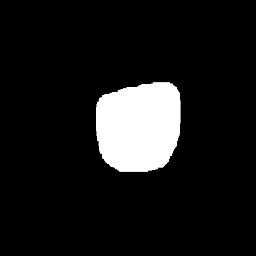mass: (95, 78, 171, 173)
